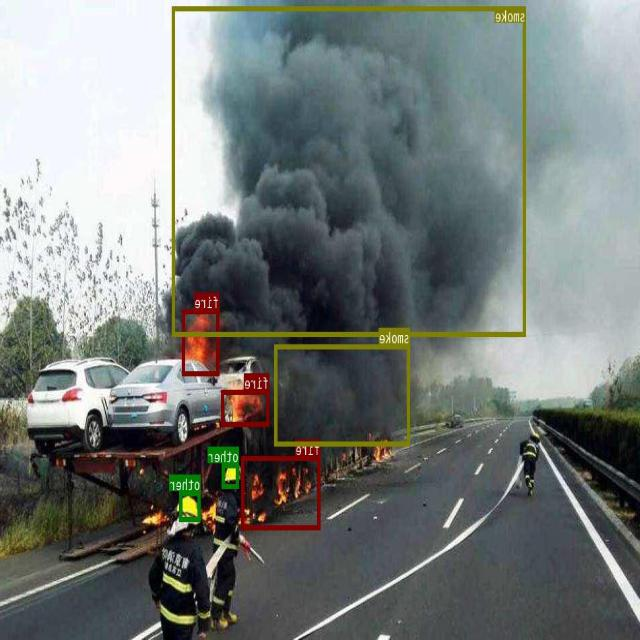fire: (242, 455, 321, 529), (183, 309, 220, 374), (222, 390, 270, 426)
other: (180, 490, 201, 521), (223, 463, 239, 487)
smoke: (173, 6, 527, 336), (275, 344, 411, 445)
